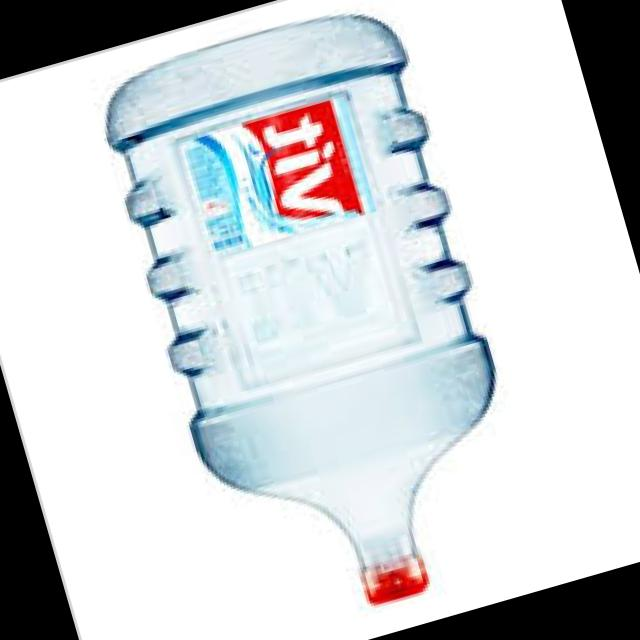Galon: (87, 0, 556, 640)
